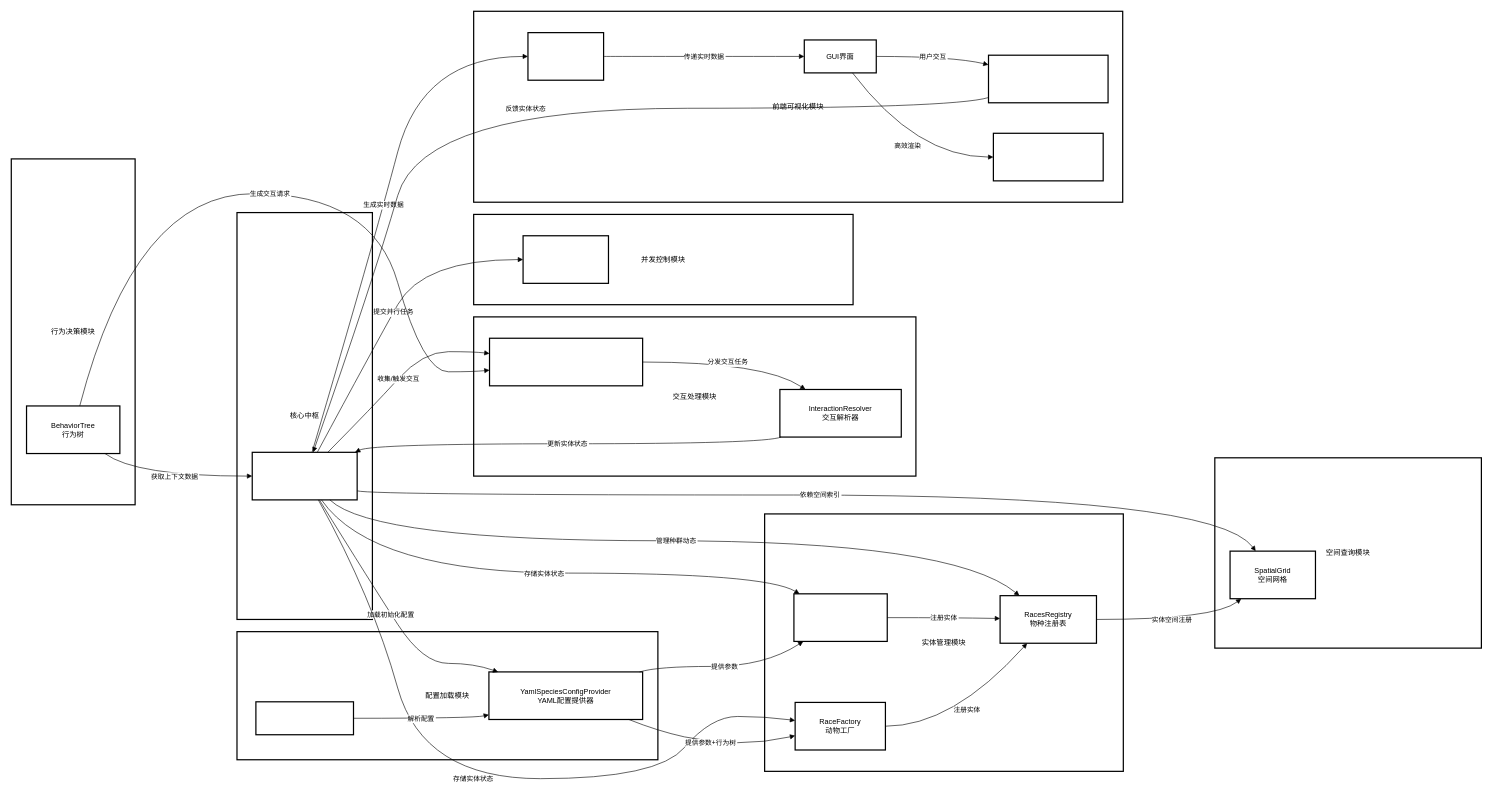
The diagram is 1492 pixels wide and 793 high, and some of its shapes have lost their labels. Each missing label, with the centre of its shape:
"EcosystemState 生态系统状态" belongs at point 304,475.
"Frontend Selection 前端选择机制" belongs at point 1048,78.
"InteractionRequest System 交互请求系统" belongs at point 566,361.
"Rendering Cache 渲染缓存" belongs at point 1047,156.
"Snapshot 状态快照" belongs at point 565,56.
"ThingFactory 植物工厂" belongs at point 840,617.
"ThreadPool 线程池" belongs at point 565,259.
"YAML配置文件" belongs at point 304,718.
